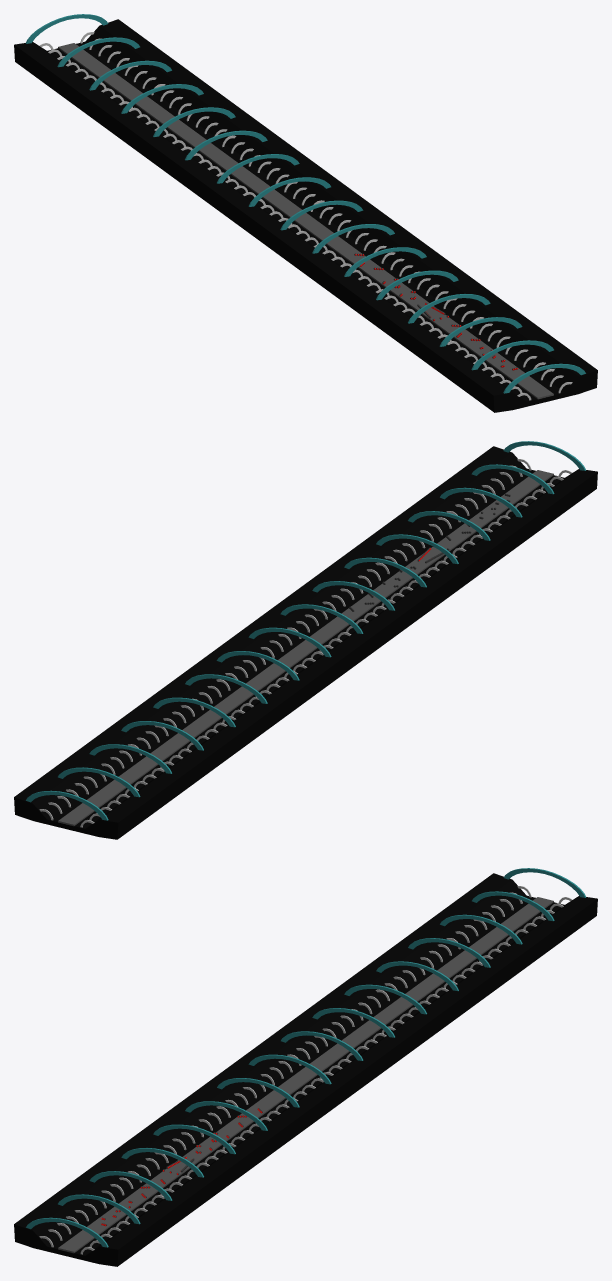
The model's file is ArchParadiseV2 (3).fbx.
The picture shows the model from 3 angles, top to bottom: view 1: azimuth 30°, elevation 25°; view 2: azimuth 150°, elevation 25°; view 3: azimuth 330°, elevation 25°; orthographic projection.
Visible parts, largest first — view 1: Plane.004, Plane.005, Plane.006, Plane.002, Plane, Plane.003; view 2: Plane.004, Plane.005, Plane.006, Plane.002, Plane, Plane.003; view 3: Plane.006, Plane.003, Plane.004, Plane.002, Plane, Plane.005.
Part boxes in pixels (x1,y1,x2,y2): Plane.004: [14, 42, 512, 412]; Plane.005: [85, 25, 578, 397]; Plane.006: [100, 19, 597, 393]; Plane.002: [47, 41, 564, 406]; Plane: [58, 43, 553, 399]; Plane.003: [35, 43, 526, 409]; Plane.004: [99, 469, 597, 839]; Plane.005: [33, 452, 526, 824]; Plane.006: [14, 446, 511, 820]; Plane.002: [47, 468, 564, 833]; Plane: [58, 470, 553, 826]; Plane.003: [85, 470, 576, 836]; Plane.006: [99, 896, 597, 1266]; Plane.003: [33, 879, 526, 1251]; Plane.004: [14, 873, 511, 1247]; Plane.002: [47, 895, 564, 1260]; Plane: [58, 897, 553, 1253]; Plane.005: [85, 897, 576, 1263].
Size of what is drawn, in the model's own units: 12571 by 4057 by 100000.
